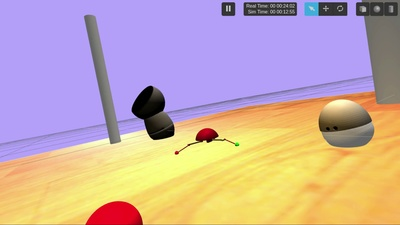mira_robot: (319, 99, 374, 148)
